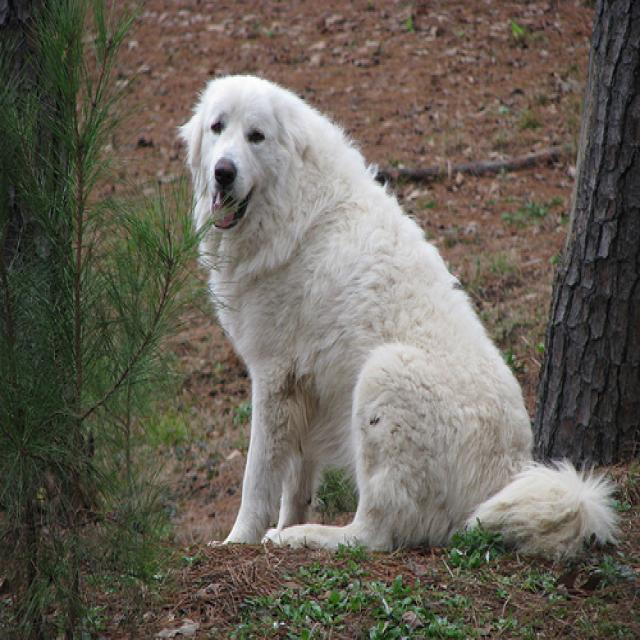dog-great_pyrenees: (179, 61, 614, 572)
